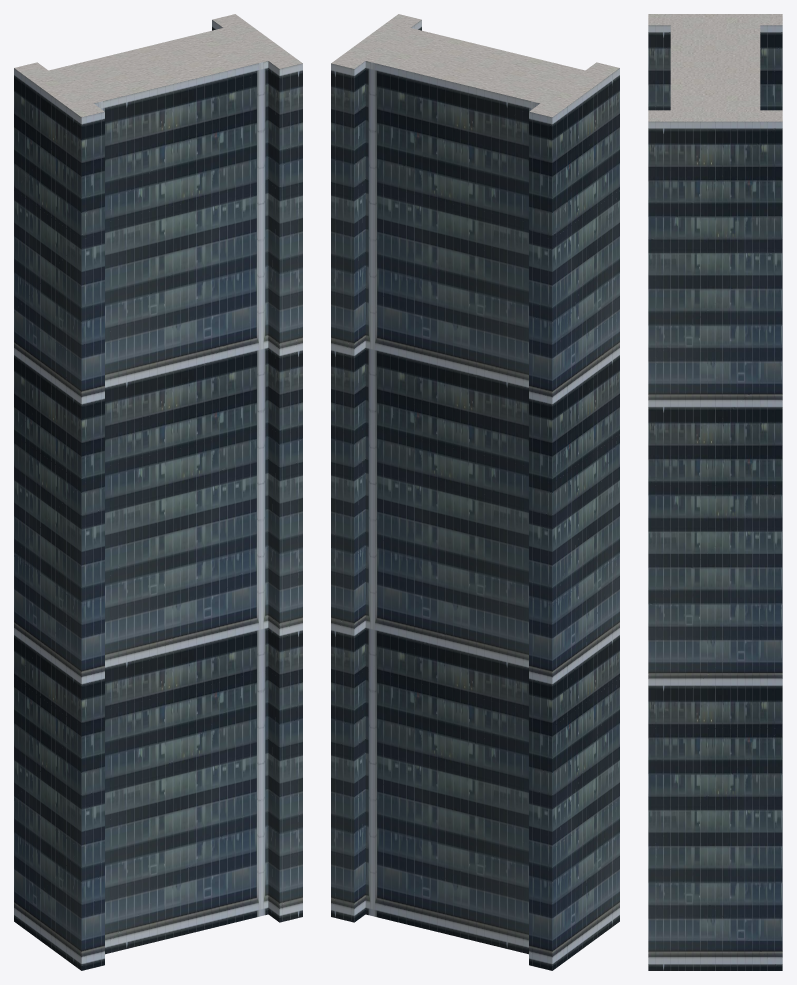
File: building_007.glb
3 renders of one model, left to right at view 1: azimuth 30°, elevation 25°; view 2: azimuth 150°, elevation 25°; view 3: azimuth 270°, elevation 25°, orthographic.
Visible parts, largest first — view 1: building_007; view 2: building_007; view 3: building_007.
Part boxes in pixels (x1,y1,x2,y2): building_007: (14, 14, 302, 970); building_007: (331, 14, 619, 970); building_007: (648, 14, 782, 970).
Bounding box in the file's own units: 1710 × 6300 × 903.
Materials: 2 (2 with a texture image).
